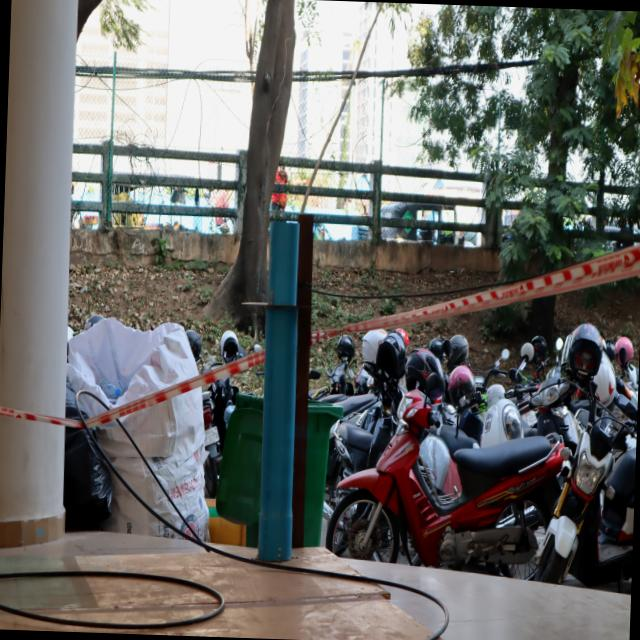pole: (238, 212, 330, 367)
